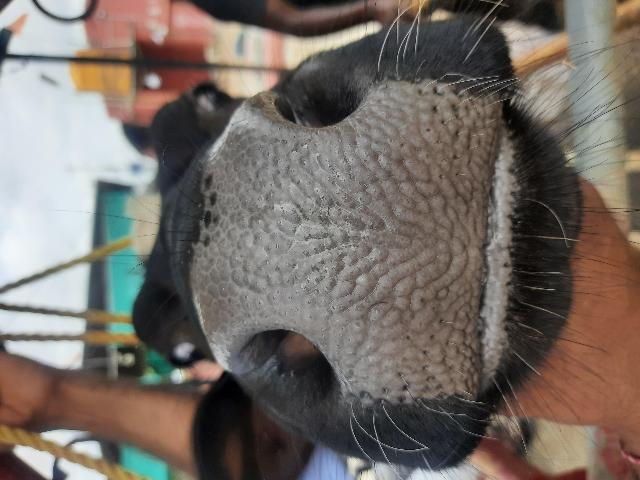Muzzle: (213, 130, 484, 342)
